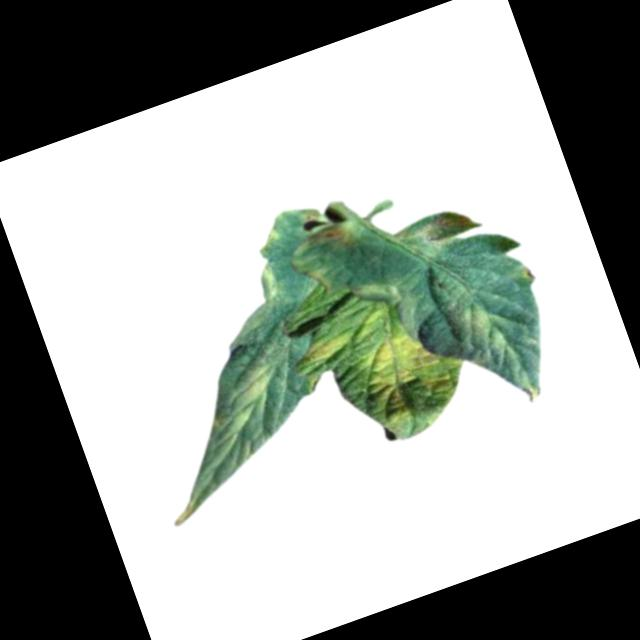Leaf_Mold: (352, 314, 473, 435), (210, 356, 289, 437), (444, 293, 520, 376), (406, 205, 481, 264), (303, 217, 359, 259), (302, 326, 356, 369)
